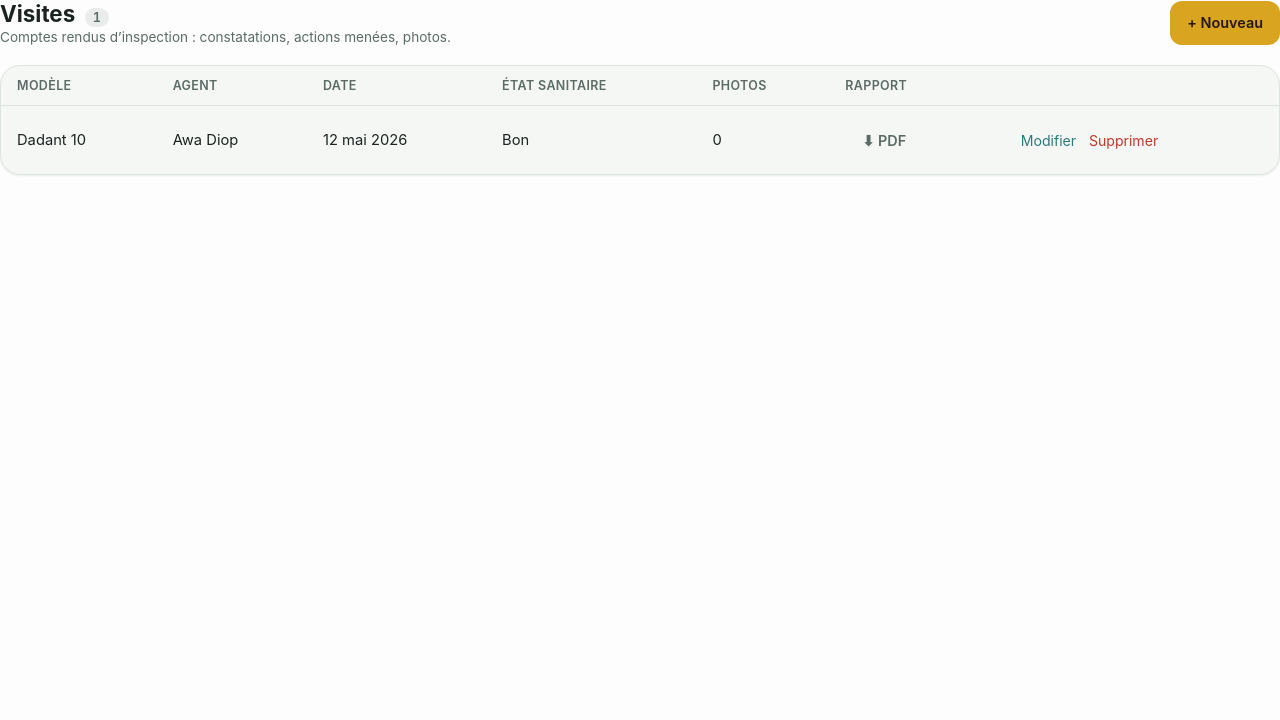
Scenario: vue Visites › carnet paramétrable dans la visite (SPRINT-28) › masque la section du noyau que le gabarit éteint
This screenshot has width=1280, height=720.
Expected: the text "Dadant 10" is shown, [1,106,157,174]
Click the button "Modifier" at (1048,140), box [1014,129,1082,152]
(page scrolled)
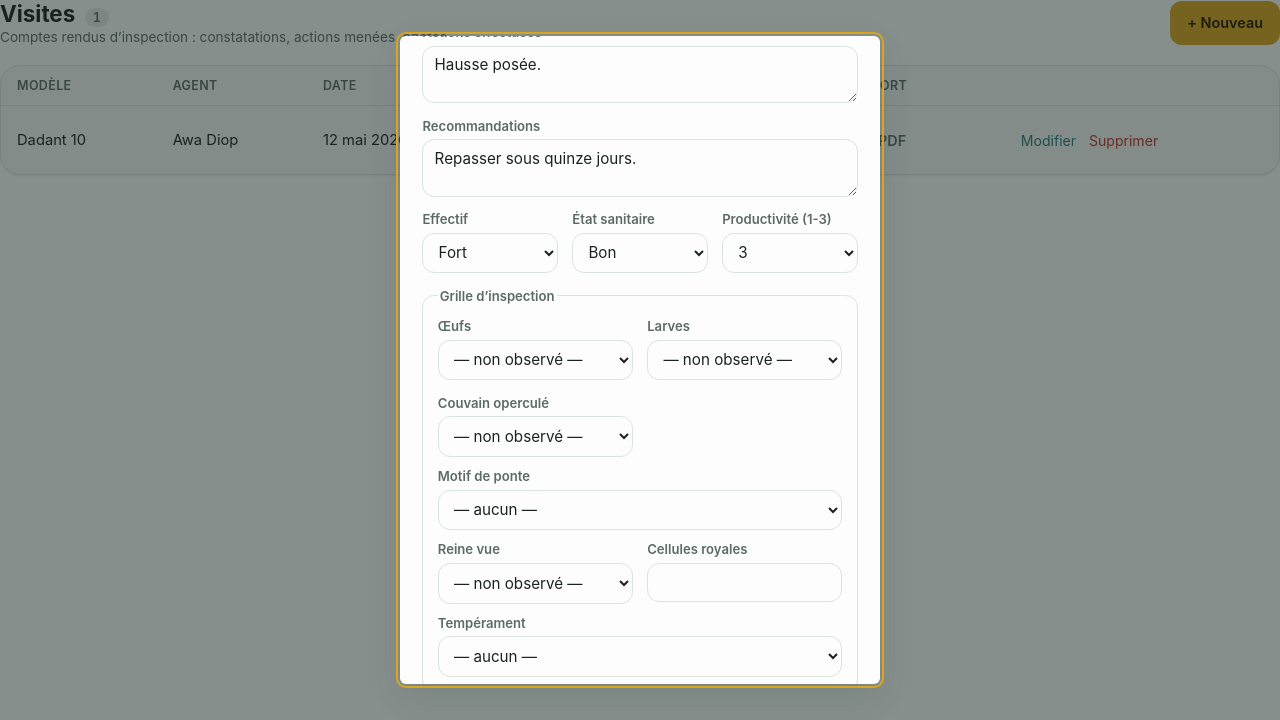
Result: the dropdown labelled "Œufs" is shown at [438,340,633,380]
